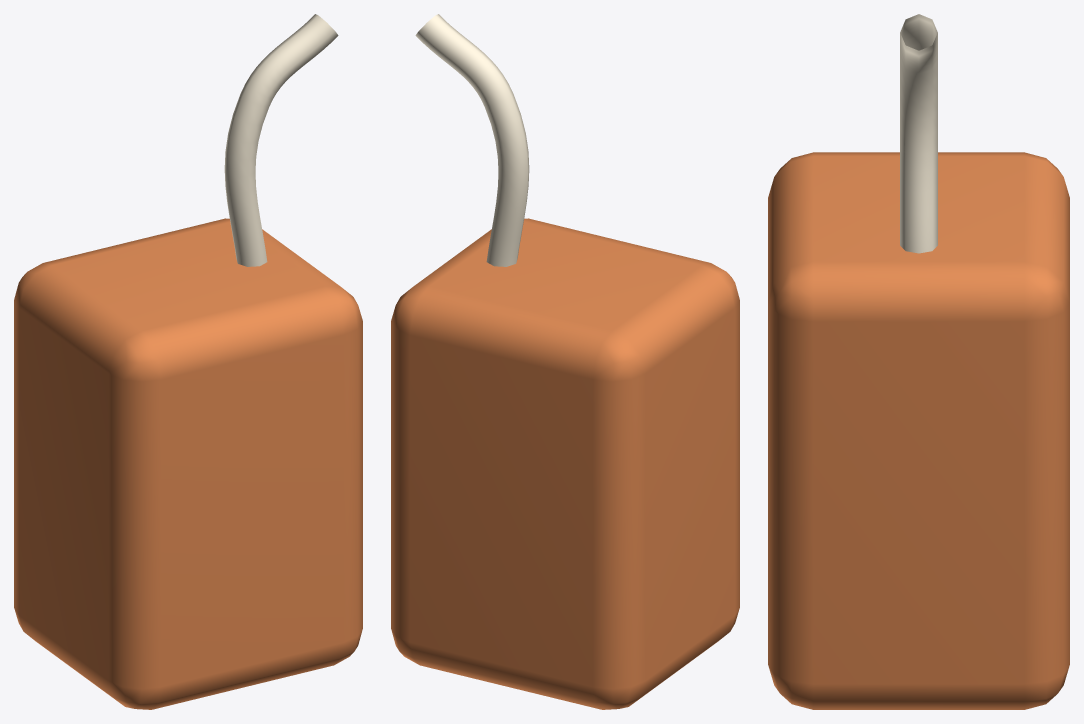
Rendered from word-juice.glb.
3 renders of one model, left to right at view 1: azimuth 30°, elevation 25°; view 2: azimuth 150°, elevation 25°; view 3: azimuth 270°, elevation 25°, orthographic. The views are drawn at different scales.
Visible parts, largest first — view 1: juice carton, straw; view 2: juice carton, straw; view 3: juice carton, straw.
Part boxes in pixels (box(x1,y1,x2,y2)): juice carton: box(14, 218, 362, 709); straw: box(224, 14, 338, 266); juice carton: box(391, 218, 739, 709); straw: box(415, 14, 529, 266); juice carton: box(768, 152, 1069, 709); straw: box(900, 14, 937, 253).
Size of the model in its own units: 0.4902 by 1.04 by 0.4.
